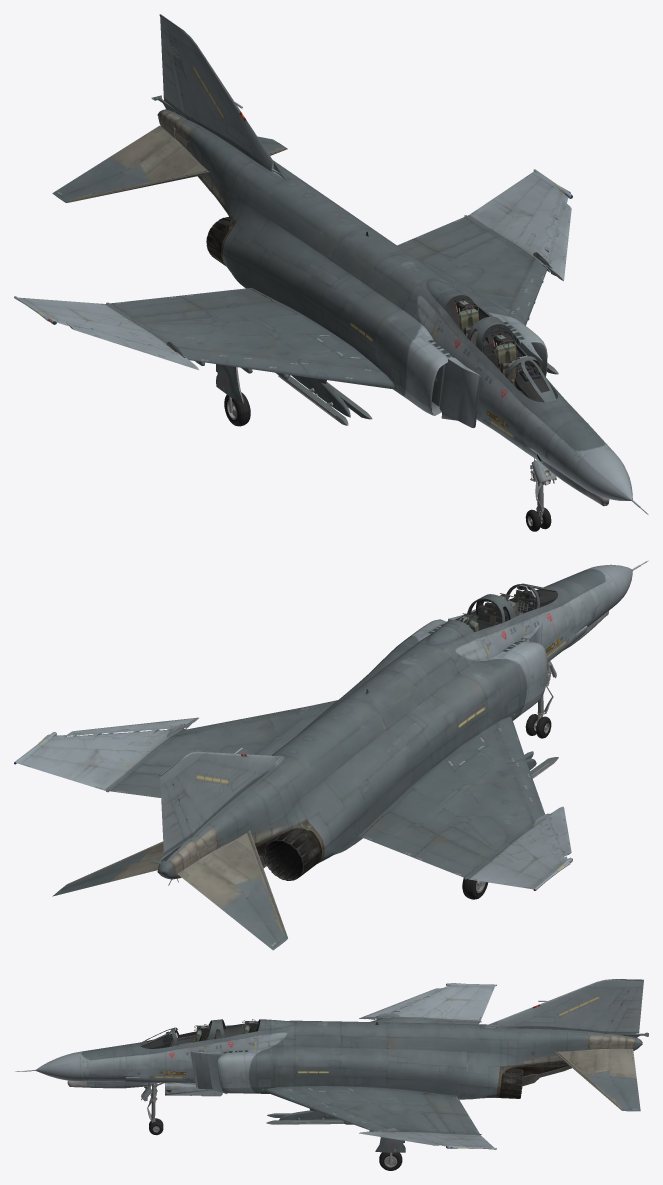
3 views of the same model, one above another, from view 1: azimuth 30°, elevation 25°; view 2: azimuth 150°, elevation 25°; view 3: azimuth 270°, elevation 25° (orthographic). The views are drawn at different scales.
Parts seen in each view (by area): view 1: Object_5, Object_7_gear; view 2: Object_5, Object_7_gear; view 3: Object_5, Object_7_gear, Object_7.
Part boxes in pixels (x1,y1,x2,y2): Object_5: (14, 14, 648, 514); Object_7_gear: (216, 364, 556, 531); Object_5: (14, 560, 648, 950); Object_7_gear: (462, 671, 553, 899); Object_5: (15, 979, 648, 1149); Object_7_gear: (141, 1090, 405, 1170); Object_7: (142, 1082, 381, 1137).
Bounding box in the file's own units: 11.78 × 5.15 × 19.2.
Materials: 2 (2 with a texture image).
